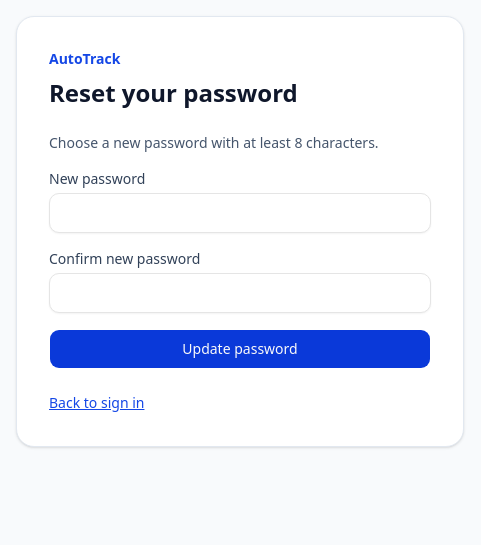
Test case: password update › handles same_password without claiming success and permits retry
Type "new-password-123" into the password field labelled "New password" at [240, 213], box [49,193,431,233]
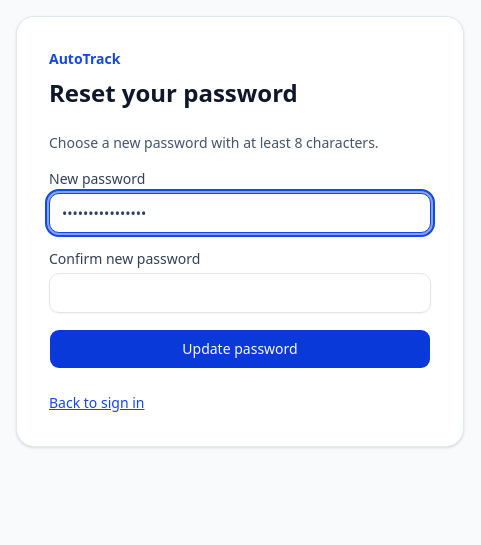
Type "new-password-123" into the password field labelled "Confirm new password" at [240, 293], box [49,273,431,313]
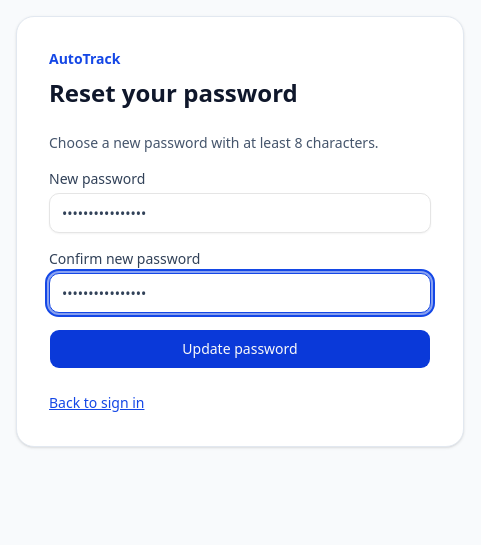
Click the button "Update password" at [240, 349], box [49,329,431,369]
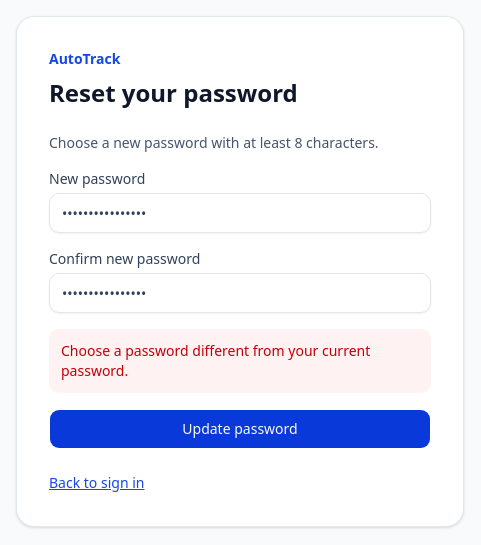
Check: the button is enabled, box [49,409,431,449]
Check: the message shows "different", box [61,341,370,380]
